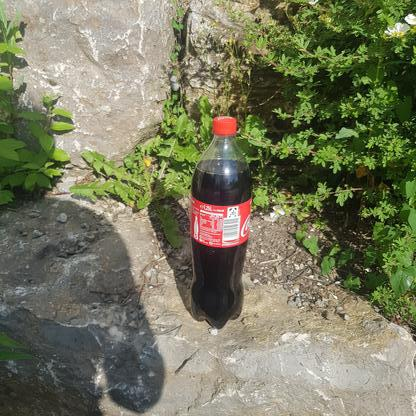coca-cola: (189, 115, 254, 330)
